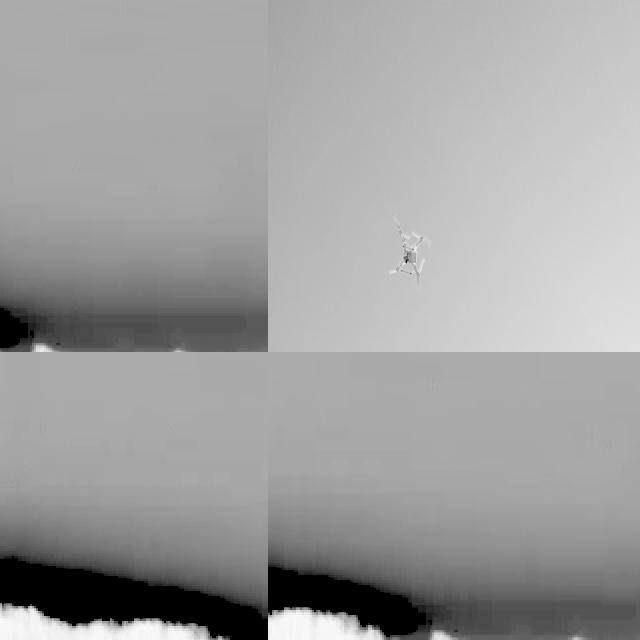drone: (387, 212, 432, 286)
